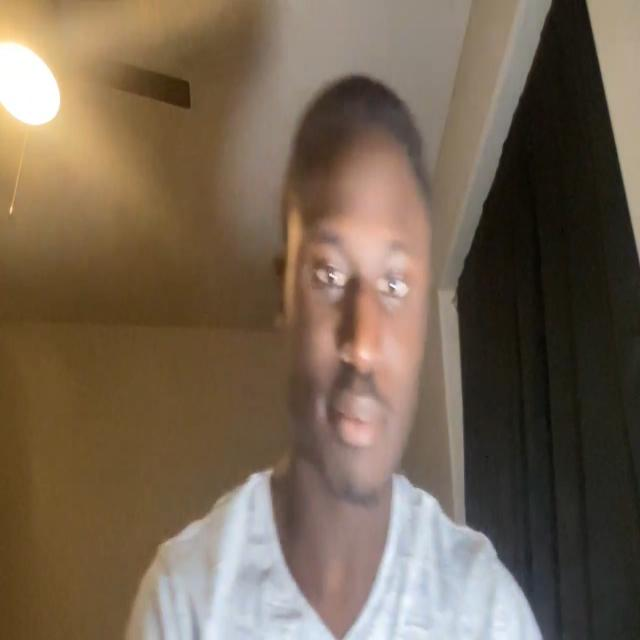face: (271, 74, 435, 506)
